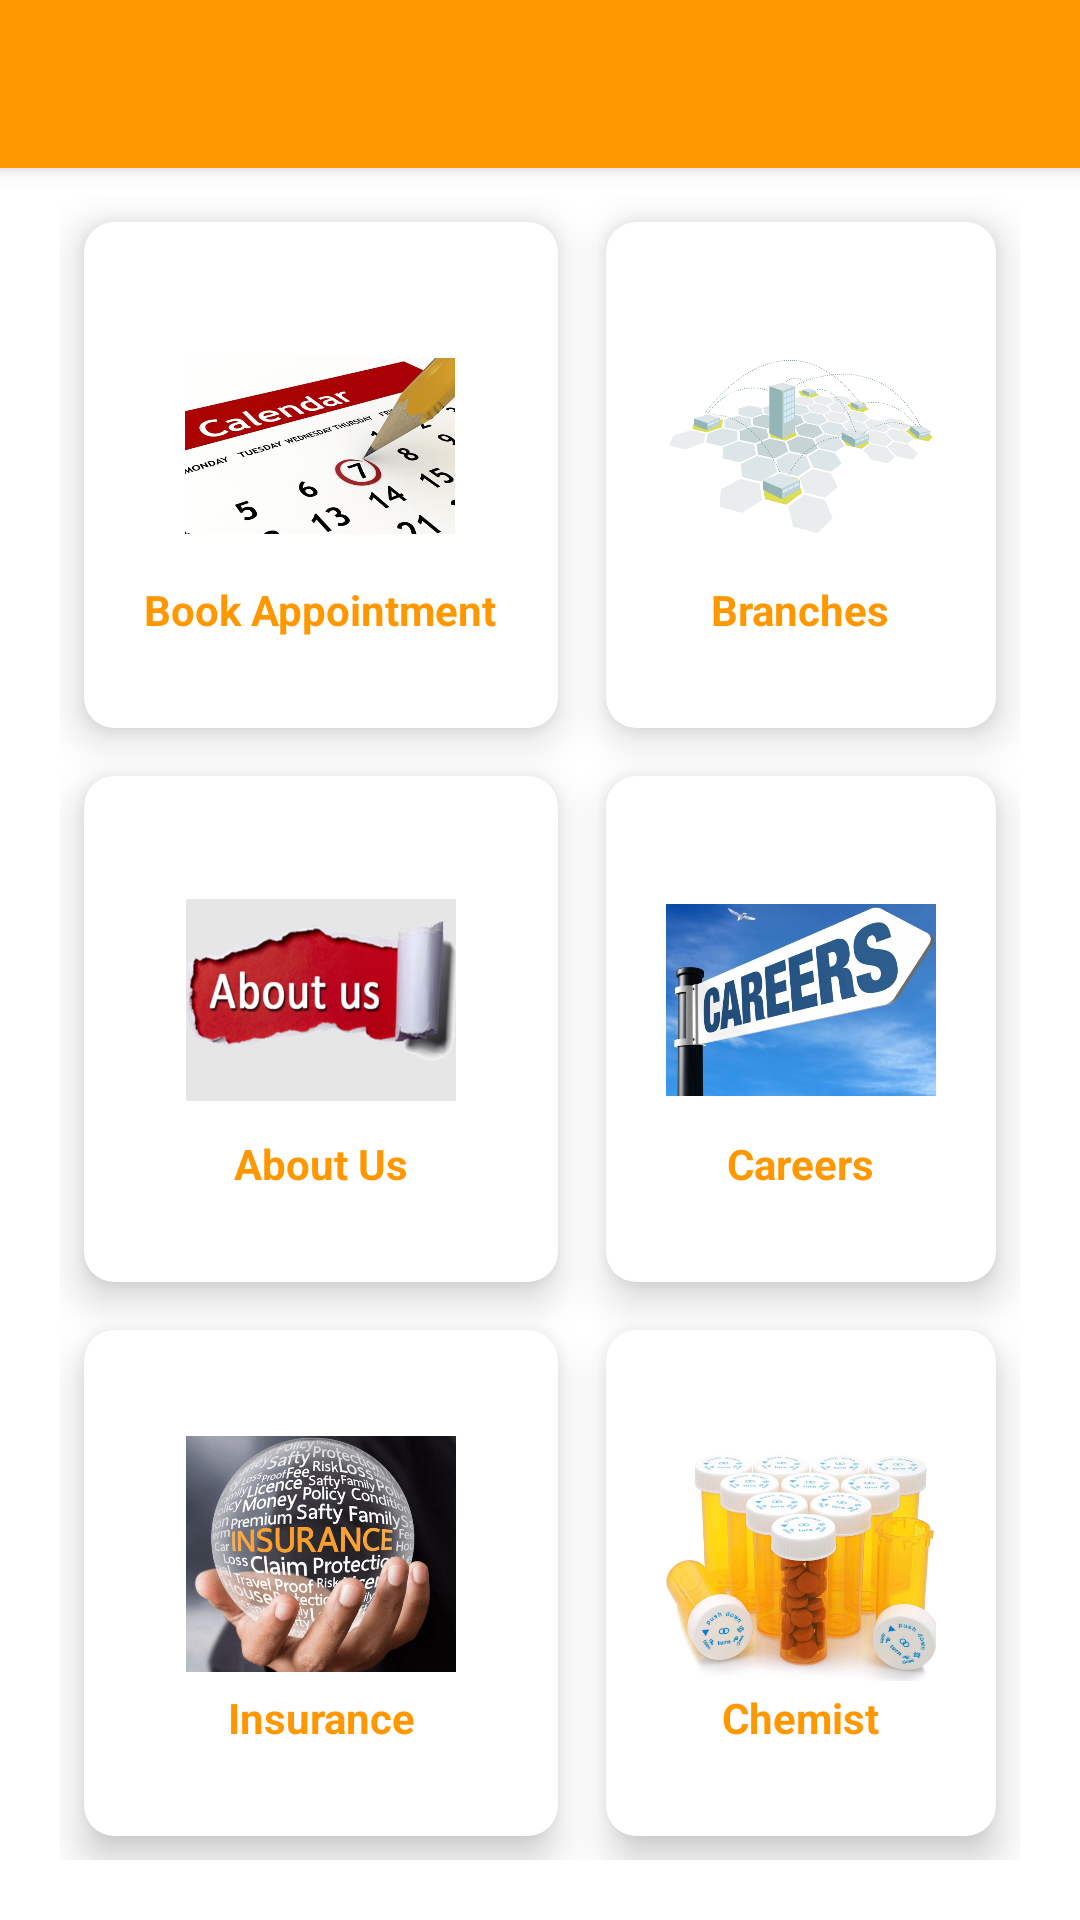

Icons on this 1080 x 1920 Android screen, each with the point to tap as (x=x, y=y):
medicine: (x=801, y=1567)
